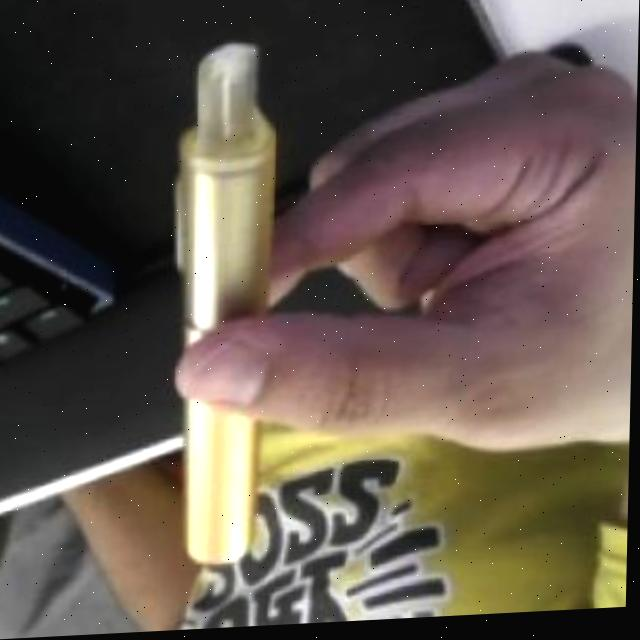vape: (171, 40, 281, 564)
